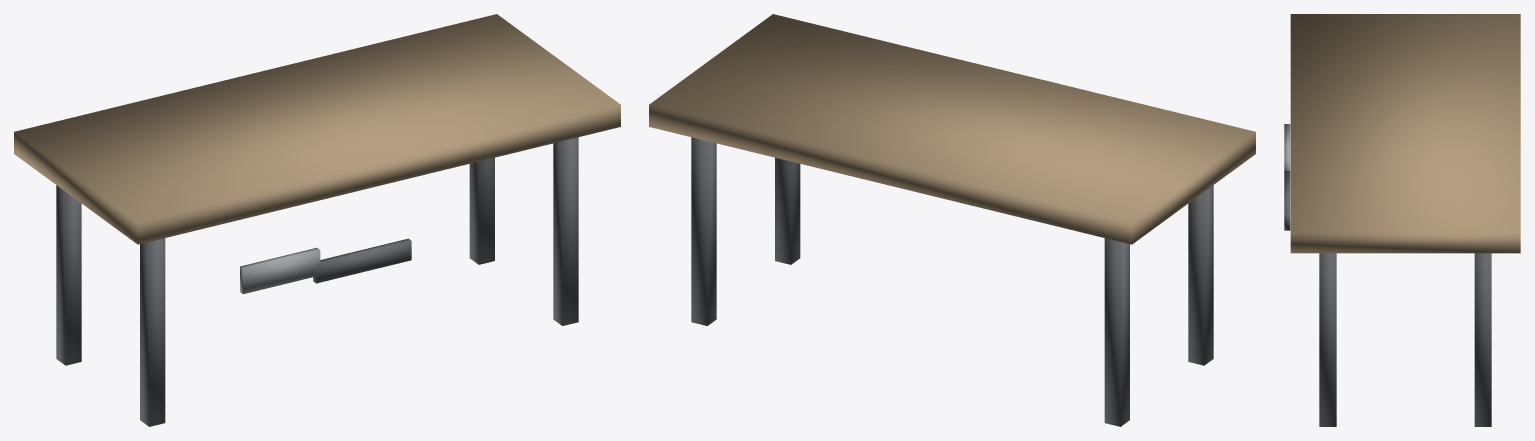
The model's file is library_reading_table__weathered.glb.
The picture shows the model from 3 angles, left to right: view 1: azimuth 30°, elevation 25°; view 2: azimuth 150°, elevation 25°; view 3: azimuth 270°, elevation 25°; orthographic projection. The views are drawn at different scales.
Parts seen in each view (by area): view 1: world; view 2: world; view 3: world.
Boxes of the visible parts, box(x1,y1,x2,y2) form: world: box(14, 14, 620, 426); world: box(649, 14, 1255, 426); world: box(1284, 14, 1520, 426).
Size of the model in its own units: 1.8 by 0.792 by 0.8212.
